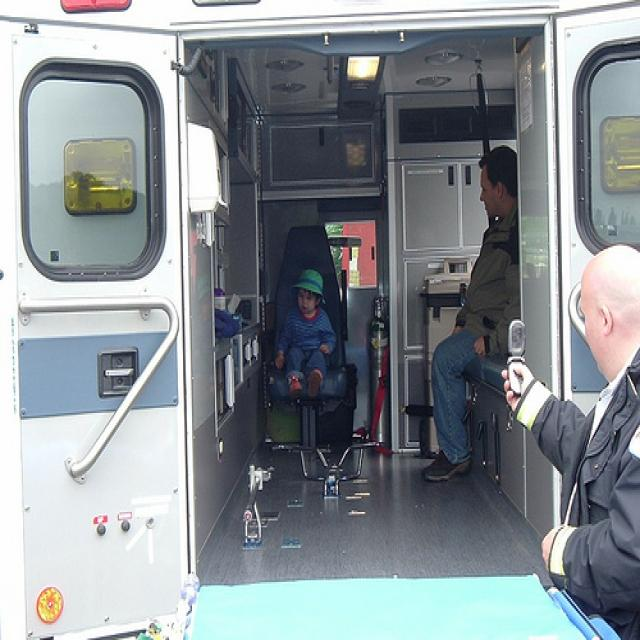emergency-vehicle: (170, 9, 582, 599)
